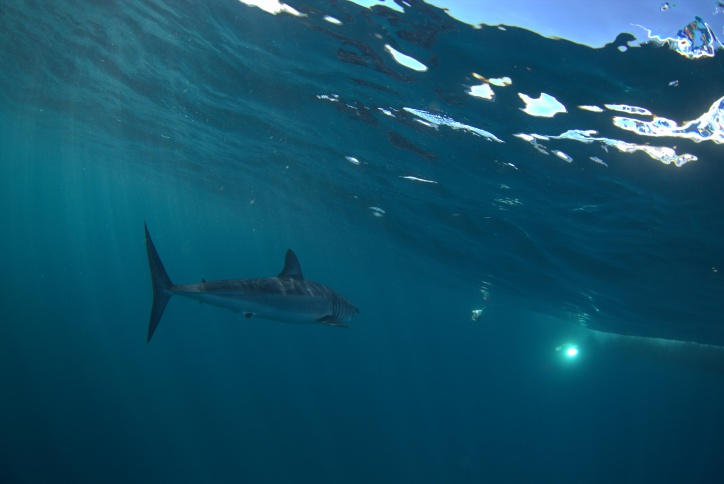Mako: (122, 213, 368, 353)
